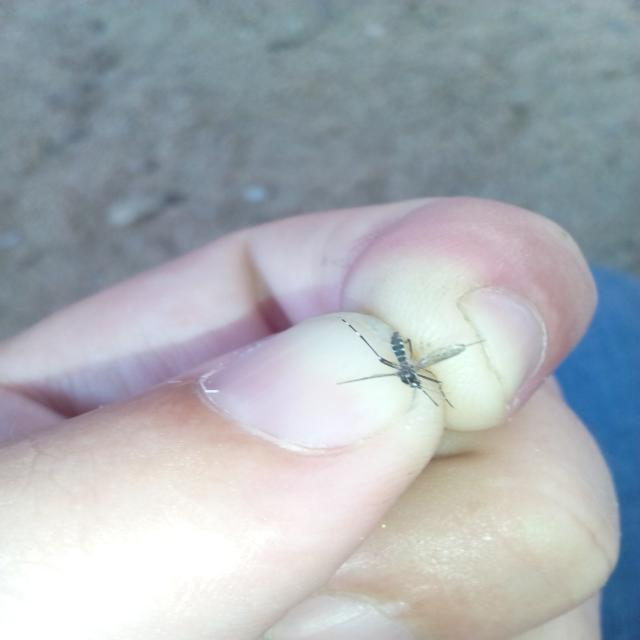albopictus: (326, 311, 480, 413)
